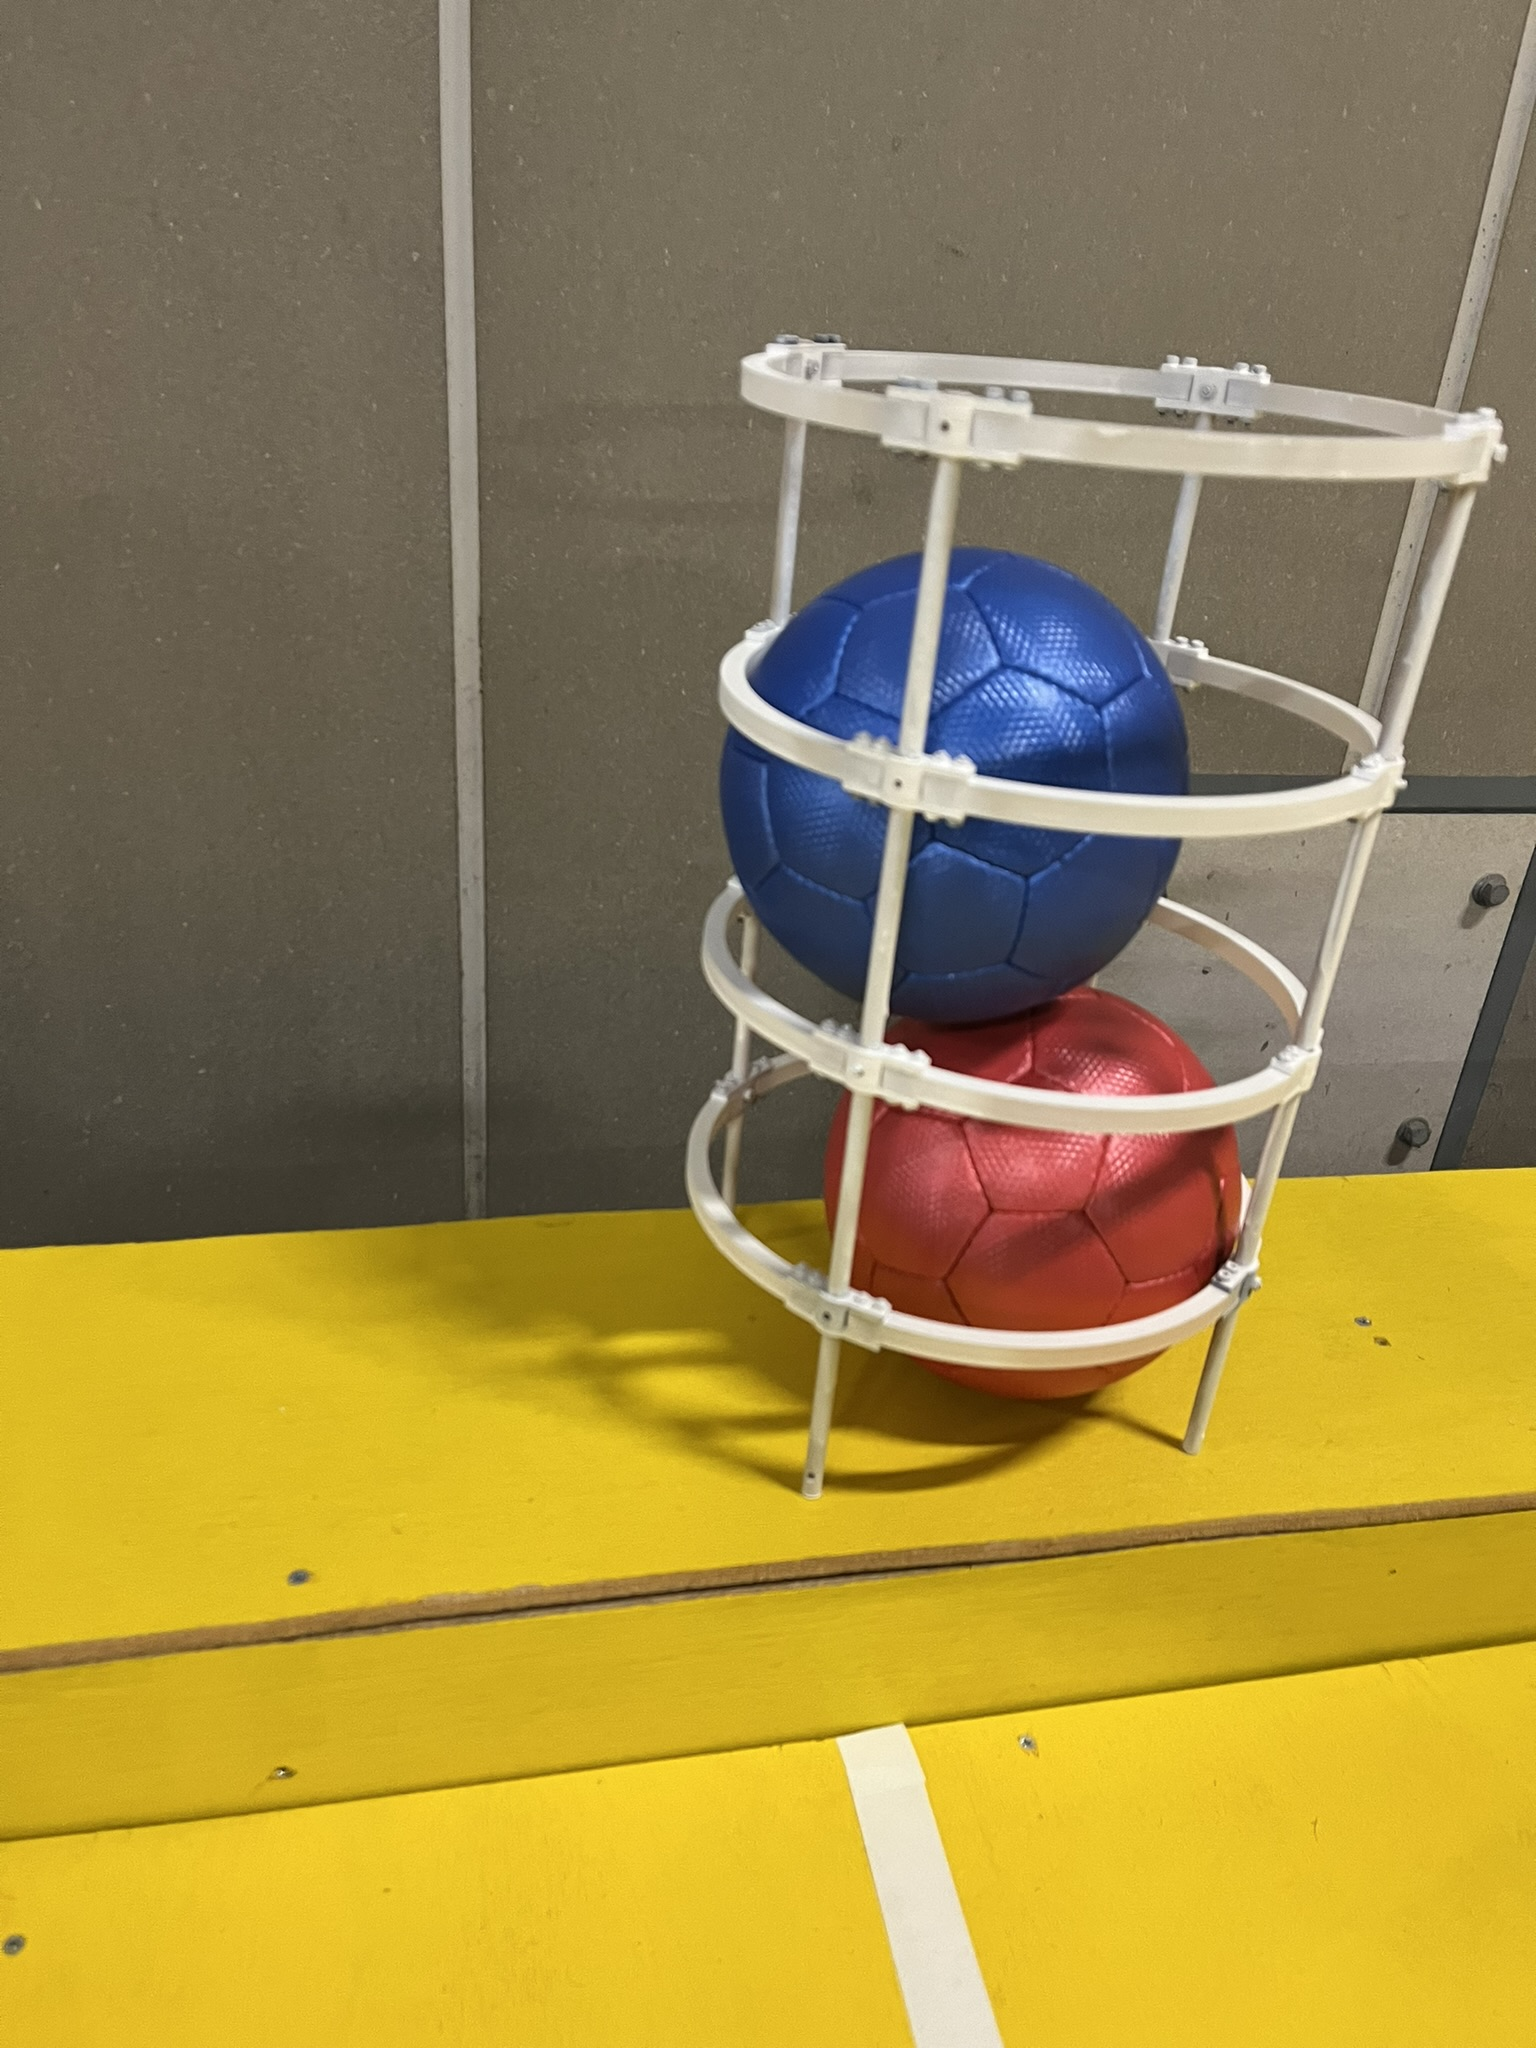blue: (715, 514, 1220, 1008)
